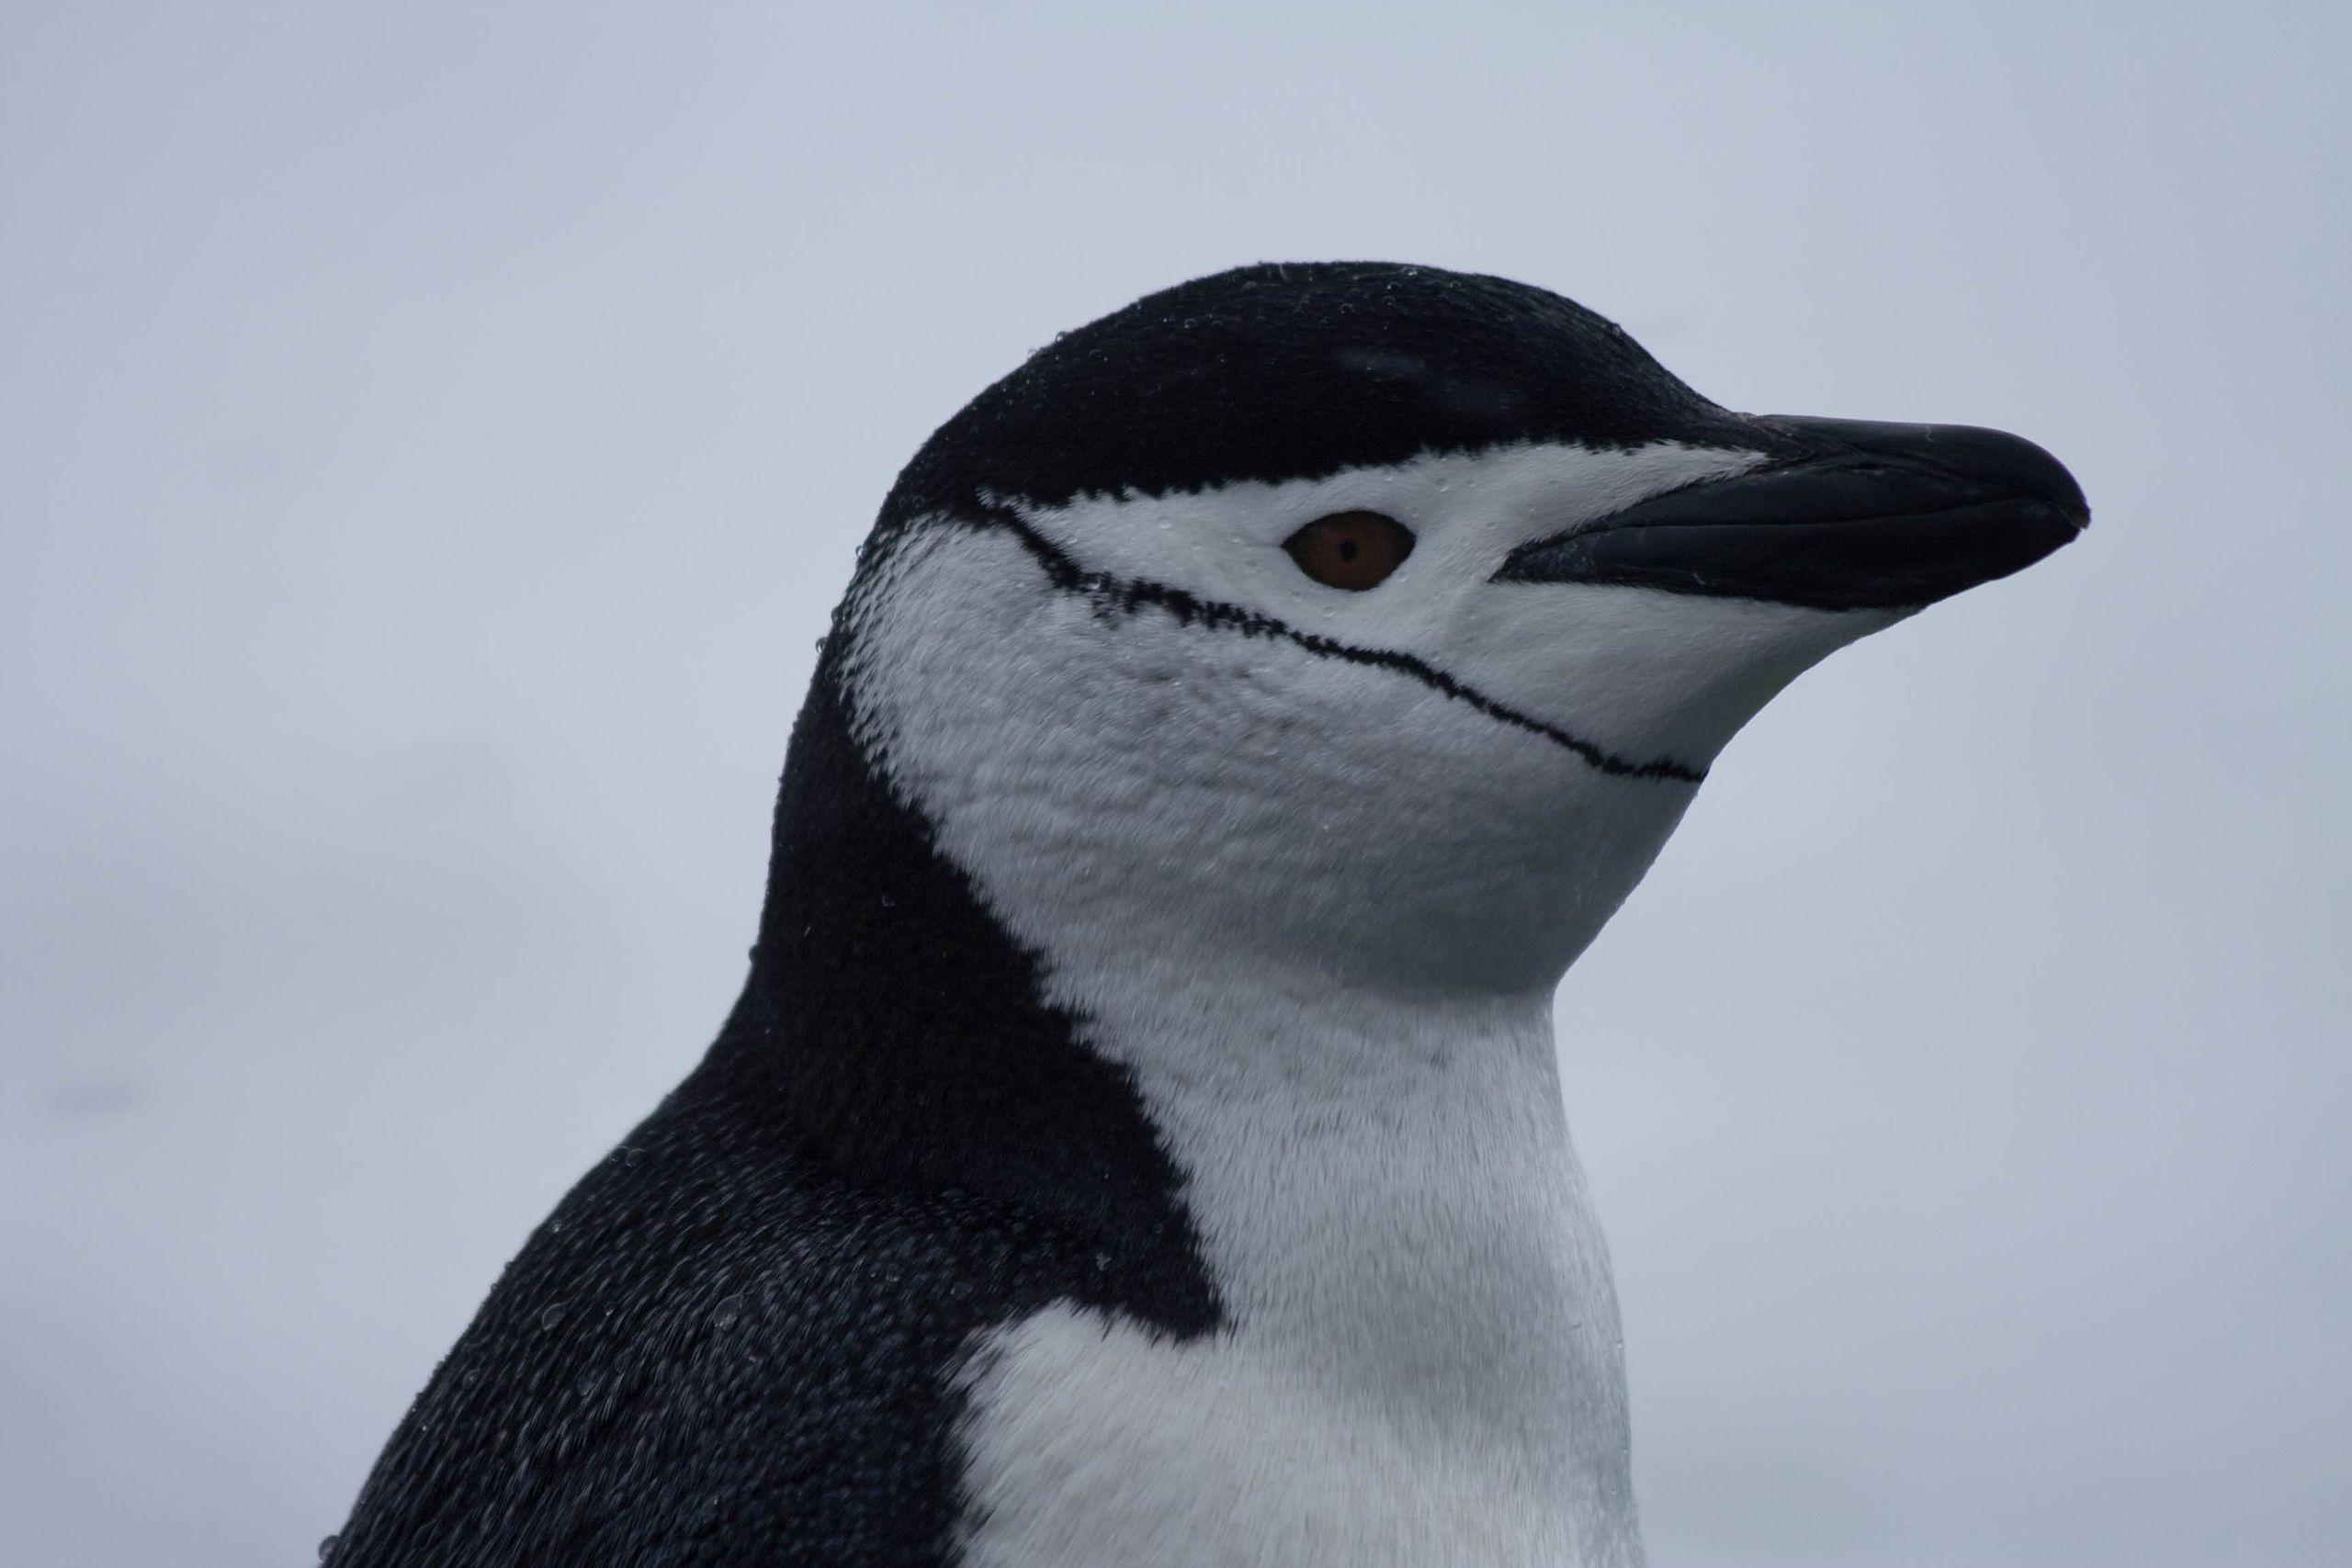chinstrap: (206, 217, 2221, 1568)
